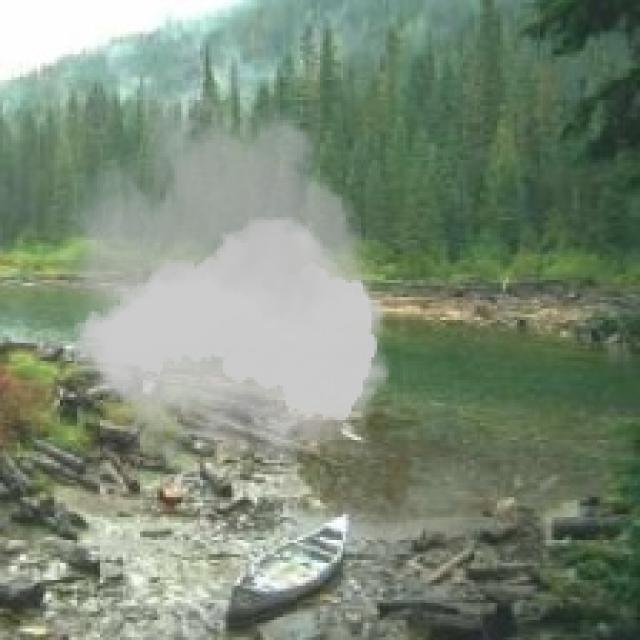Smoke: (51, 66, 400, 492)
